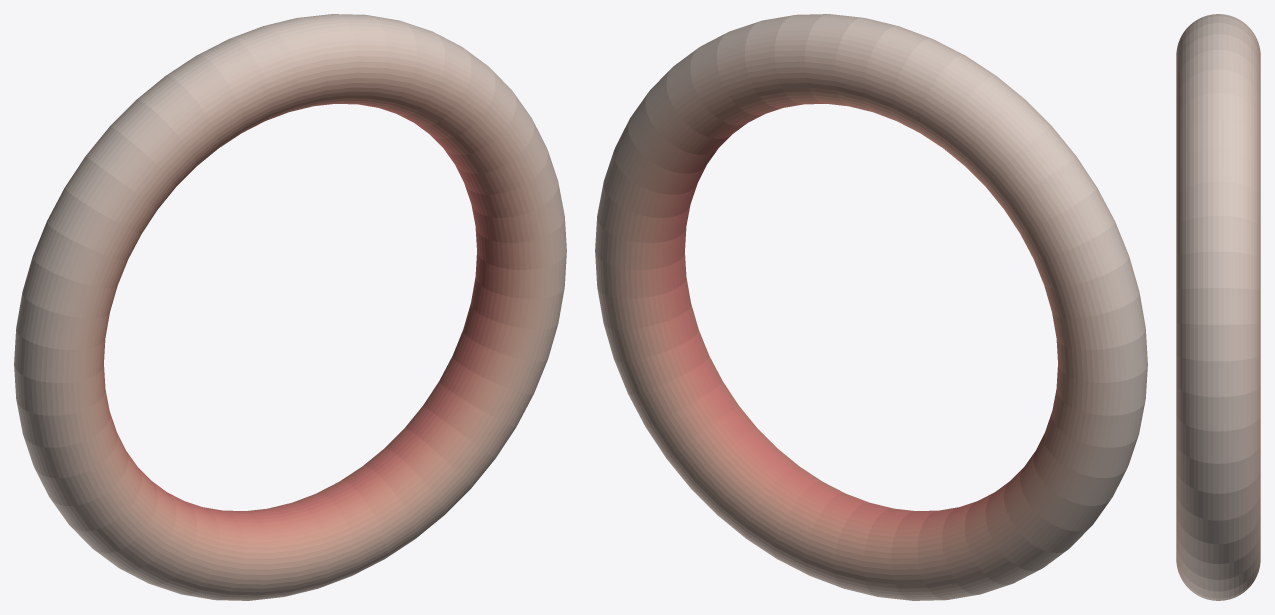
3 renders of one model, left to right at view 1: azimuth 30°, elevation 25°; view 2: azimuth 150°, elevation 25°; view 3: azimuth 270°, elevation 25°, orthographic. The views are drawn at different scales.
Parts seen in each view (by area): view 1: world; view 2: world; view 3: world.
Part boxes in pixels (left/top/right/bottom): world: left=14, top=14, right=566, bottom=600; world: left=595, top=14, right=1147, bottom=600; world: left=1176, top=14, right=1260, bottom=600.
Size of the model in its own units: 34.27 by 34.2 by 4.92.
